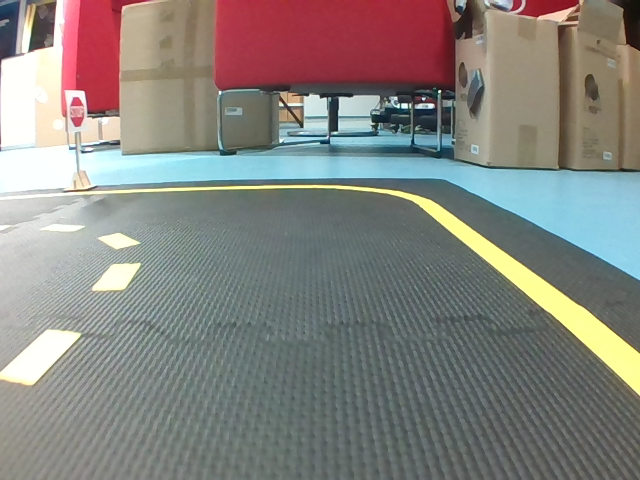stop: (66, 90, 88, 132)
